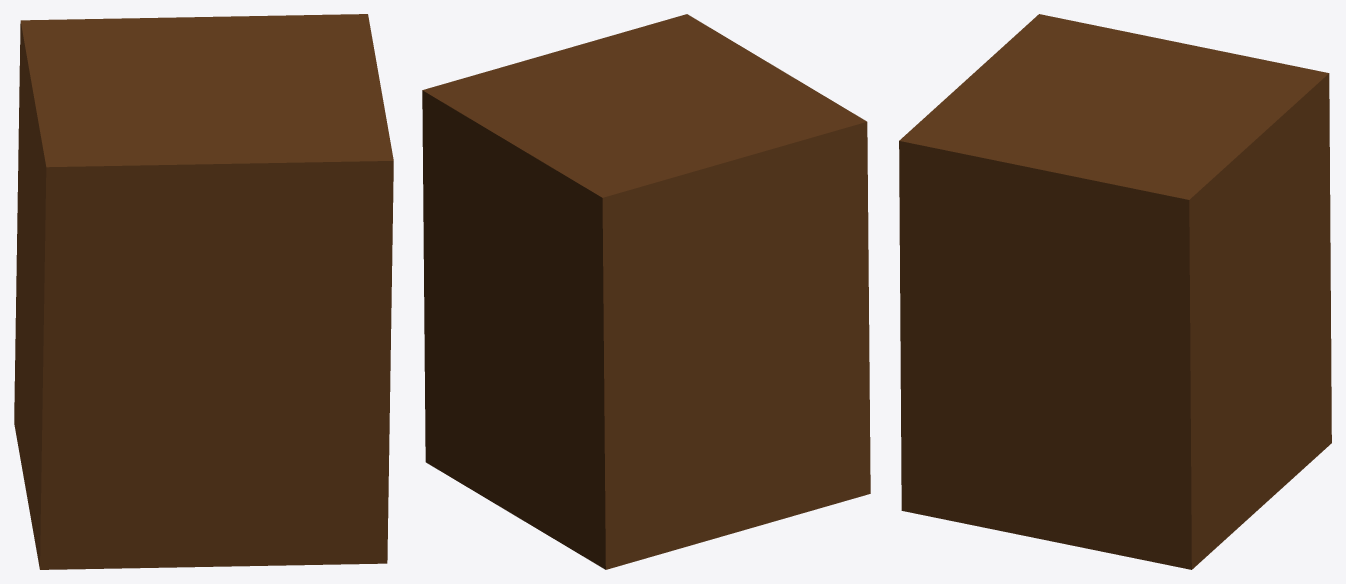
The model's file is treestump.fbx.
3 views of the same model, side by side, from view 1: azimuth 30°, elevation 25°; view 2: azimuth 150°, elevation 25°; view 3: azimuth 270°, elevation 25° (orthographic). The views are drawn at different scales.
Parts seen in each view (by area): view 1: Cube; view 2: Cube; view 3: Cube.
Boxes of the visible parts, left/top/right/bottom form: Cube: left=14, top=14, right=393, bottom=569; Cube: left=422, top=14, right=870, bottom=569; Cube: left=899, top=14, right=1331, bottom=569.
Size of the model in its own units: 94.48 by 90.1 by 93.88.
